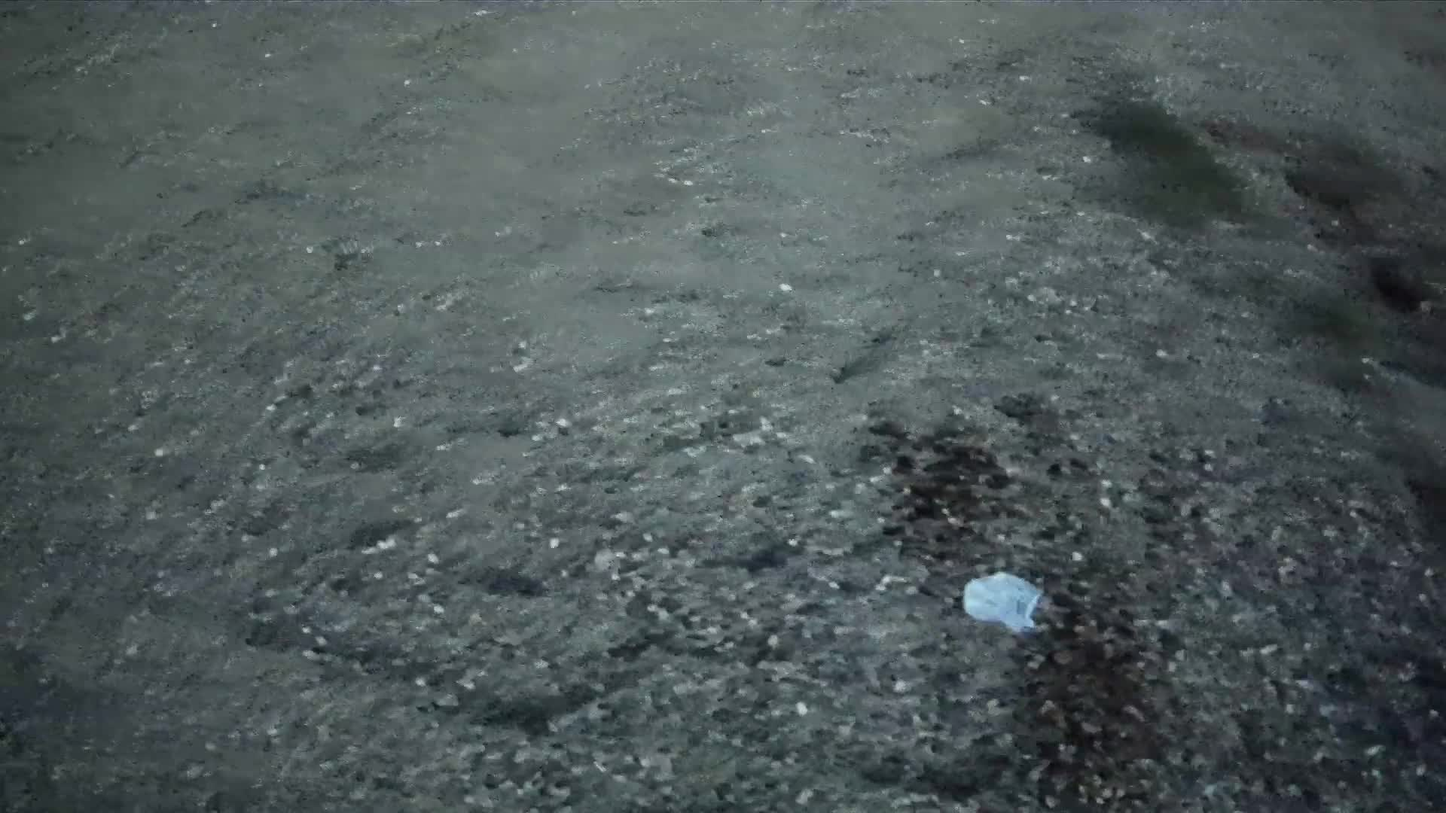Target: (959, 568, 1052, 636)
